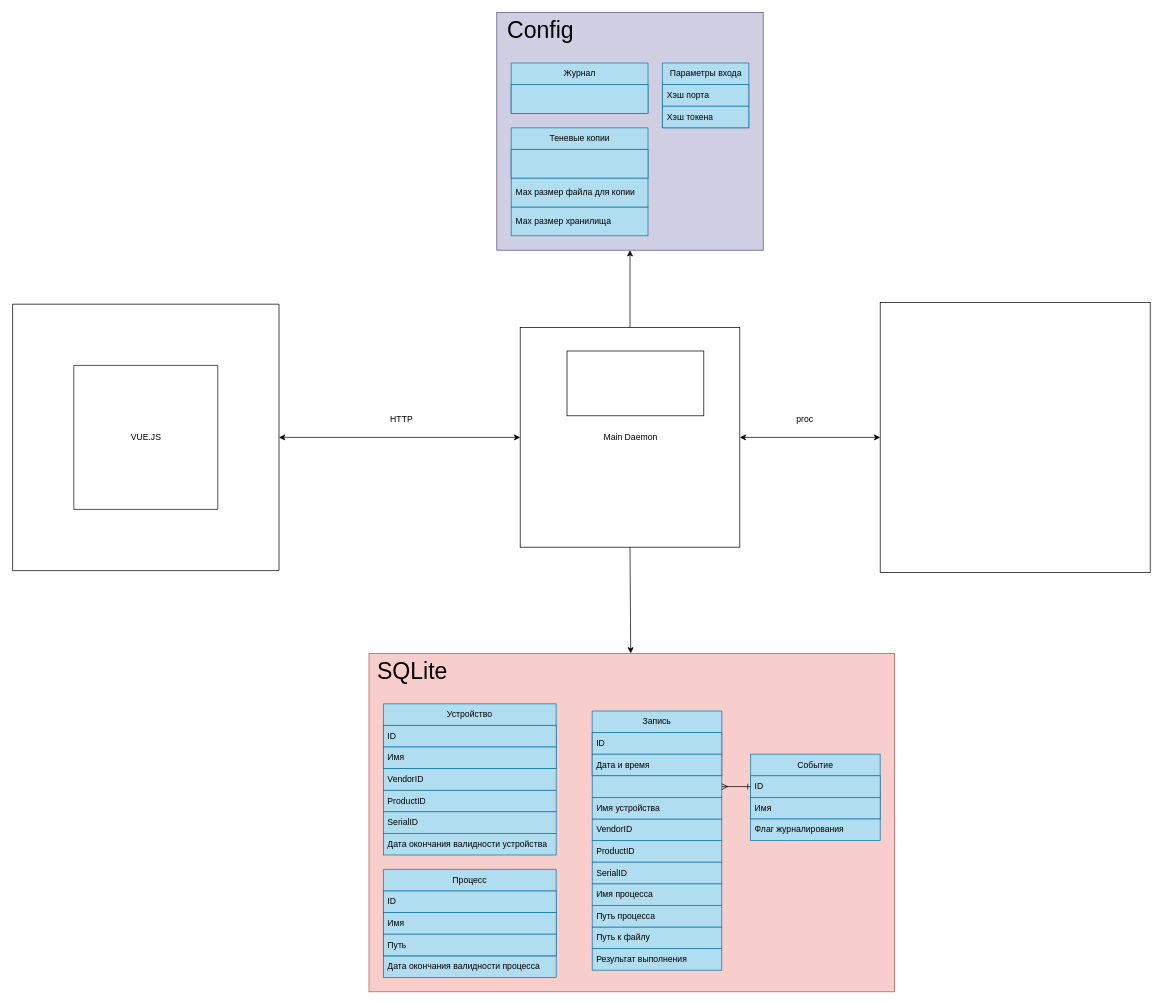
The diagram is 1163 pixels wide and 1004 high, and some of its shapes have lost their labels. Each missing label, with the centre of its shape:
ID события: point (656, 786)
in-memory config && database: point (635, 383)
KERNEL MODULES: point (1014, 437)
Min размер файла для копии: point (579, 163)
NGINX: point (145, 437)
Максимальный размер журнала: point (579, 98)
